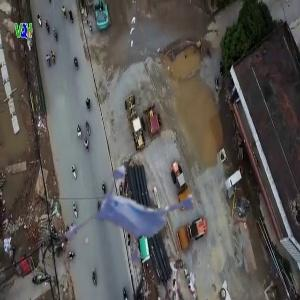drone: (73, 131, 222, 280)
